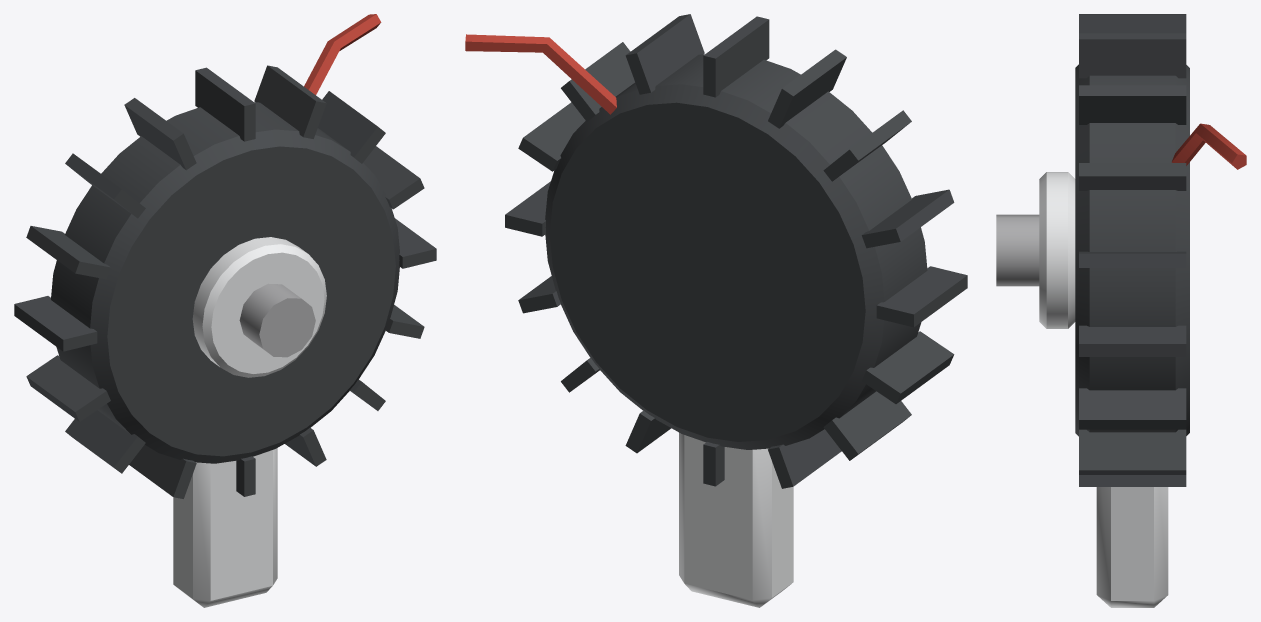
Rendered from hound_hip_servo.glb.
3 views of the same model, side by side, from view 1: azimuth 30°, elevation 25°; view 2: azimuth 150°, elevation 25°; view 3: azimuth 270°, elevation 25° (orthographic). The views are drawn at different scales.
Parts seen in each view (by area): view 1: body; view 2: body; view 3: body.
Boxes of the visible parts, left/top/right/bottom form: body: left=14, top=14, right=436, bottom=607; body: left=465, top=14, right=967, bottom=607; body: left=996, top=14, right=1246, bottom=607.
Size of the model in its own units: 0.1371 by 0.171 by 0.0698.
